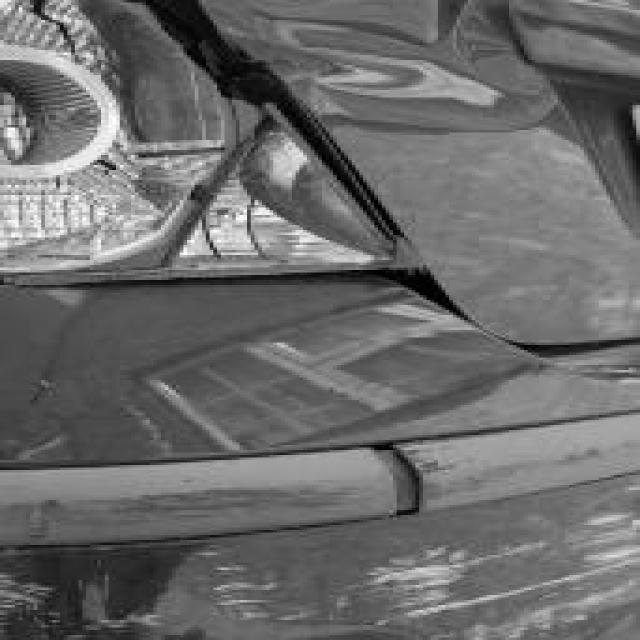Bumper: (0, 455, 640, 640)
Dickey: (258, 2, 640, 238)
Light: (0, 2, 374, 278)
